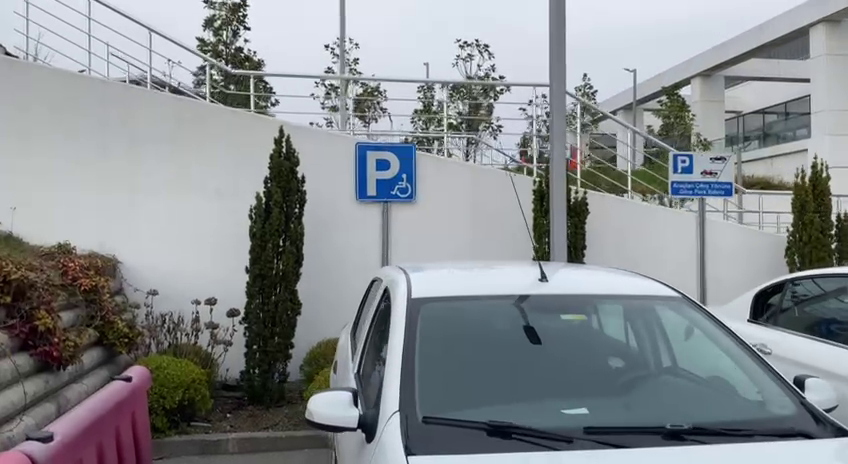parking: (354, 141, 418, 204), (671, 152, 695, 176)
